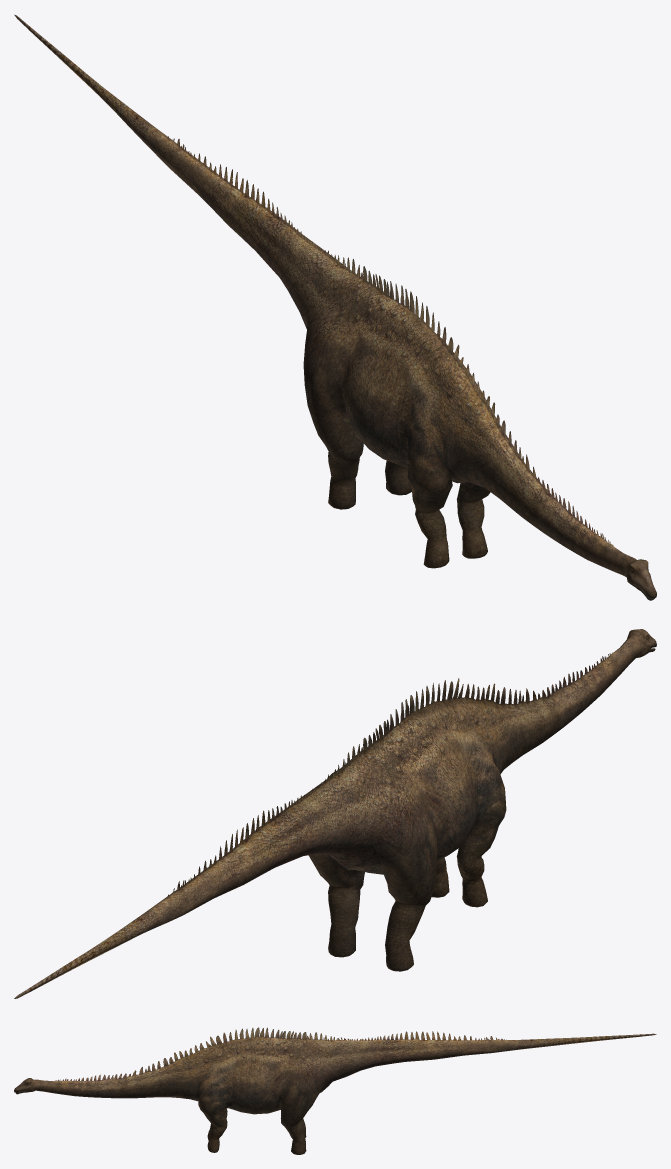
3 renders of one model, top to bottom at view 1: azimuth 30°, elevation 25°; view 2: azimuth 150°, elevation 25°; view 3: azimuth 270°, elevation 25°, orthographic. The views are drawn at different scales.
Parts seen in each view (by area): view 1: DiplodocusWWD_Adult_F_mesh; view 2: DiplodocusWWD_Adult_F_mesh; view 3: DiplodocusWWD_Adult_F_mesh.
Boxes of the visible parts, x1,y1,x2,y2 form: DiplodocusWWD_Adult_F_mesh: (14,14,656,600); DiplodocusWWD_Adult_F_mesh: (14,629,656,998); DiplodocusWWD_Adult_F_mesh: (14,1027,656,1154).
Bounding box in the file's own units: 0.8869 × 1.69 × 8.25.
